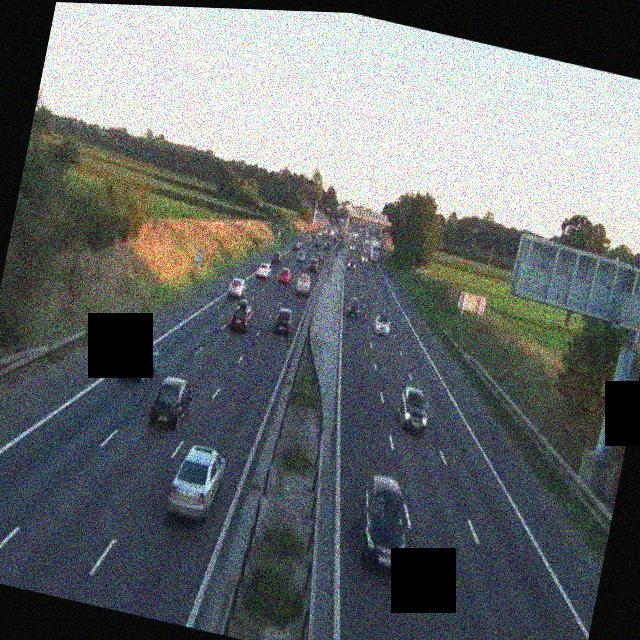car: (349, 471, 418, 577), (163, 440, 230, 527), (148, 372, 196, 433), (117, 336, 162, 386), (396, 384, 432, 435), (230, 300, 254, 333), (272, 307, 294, 336), (373, 309, 393, 337), (228, 276, 248, 300), (294, 273, 312, 296), (348, 293, 363, 318), (277, 265, 292, 284), (256, 261, 271, 280), (306, 256, 320, 275), (270, 251, 282, 267), (346, 257, 356, 271), (294, 248, 304, 262), (295, 237, 305, 250)
truck: (368, 242, 380, 263)
